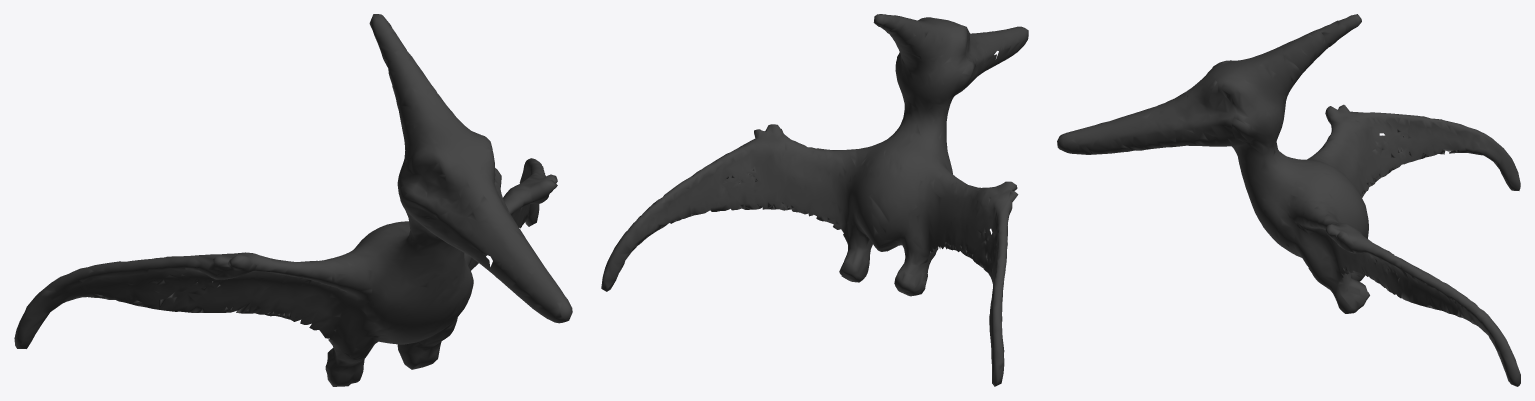
The model's file is pteranodon.glb.
The picture shows the model from 3 angles, left to right: view 1: azimuth 30°, elevation 25°; view 2: azimuth 150°, elevation 25°; view 3: azimuth 270°, elevation 25°; orthographic projection. The views are drawn at different scales.
Parts seen in each view (by area): view 1: geometry_0; view 2: geometry_0; view 3: geometry_0.
Boxes of the visible parts, x1,y1,x2,y2 form: geometry_0: (14,14,572,386); geometry_0: (601,14,1028,386); geometry_0: (1057,14,1520,386).
Size of the model in its own units: 1 by 0.6589 by 0.9805.
1 material, 1 textured.
